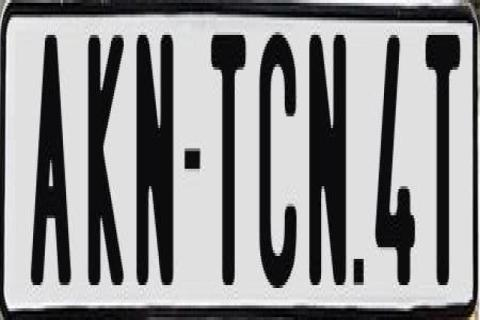0: (372, 32, 417, 291)
A: (29, 32, 72, 282)
C: (260, 27, 302, 286)
K: (86, 29, 126, 282)
N: (308, 32, 349, 294), (136, 26, 173, 291)
T: (425, 26, 459, 294), (212, 35, 246, 299)
